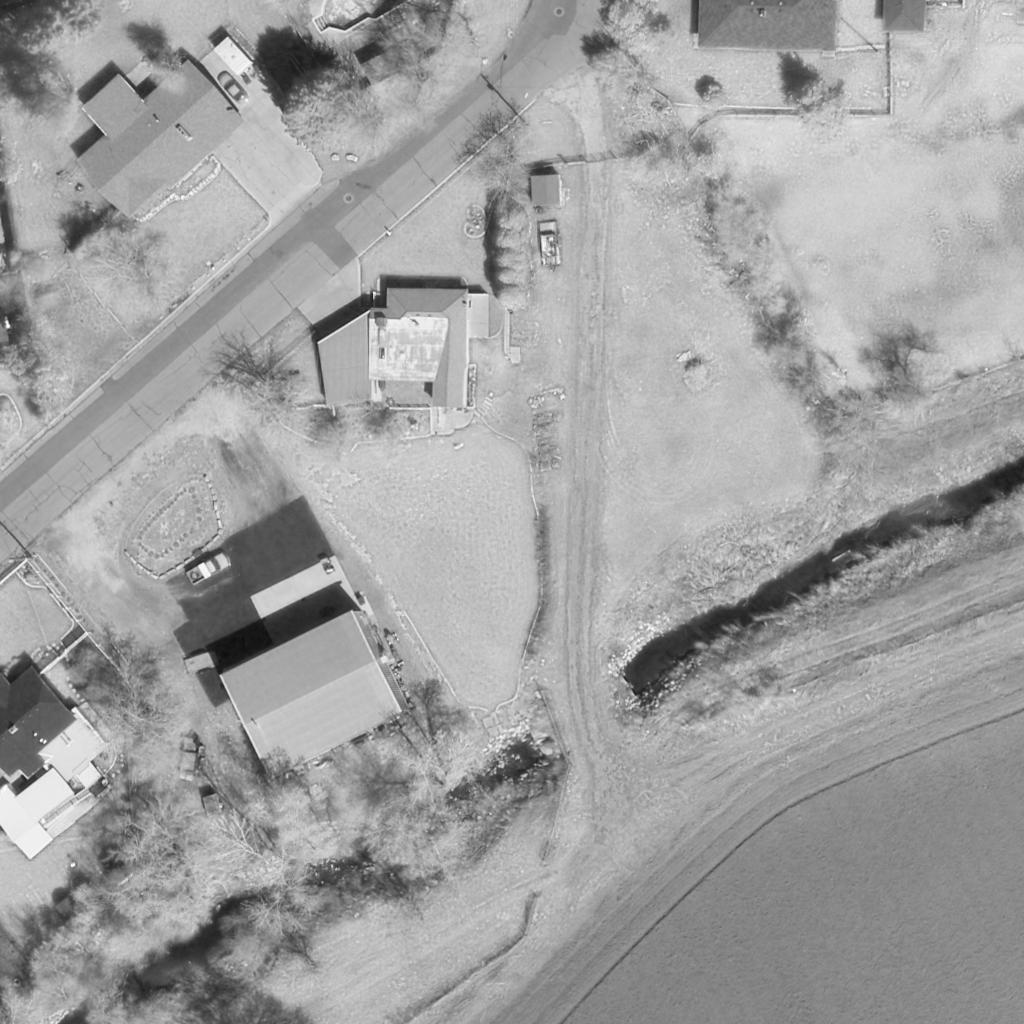vehicle: (215, 37, 259, 81), (186, 552, 232, 588), (215, 70, 253, 108), (537, 221, 563, 269)
